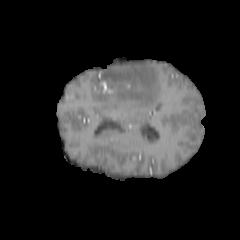glioma: (99, 62, 162, 109)
